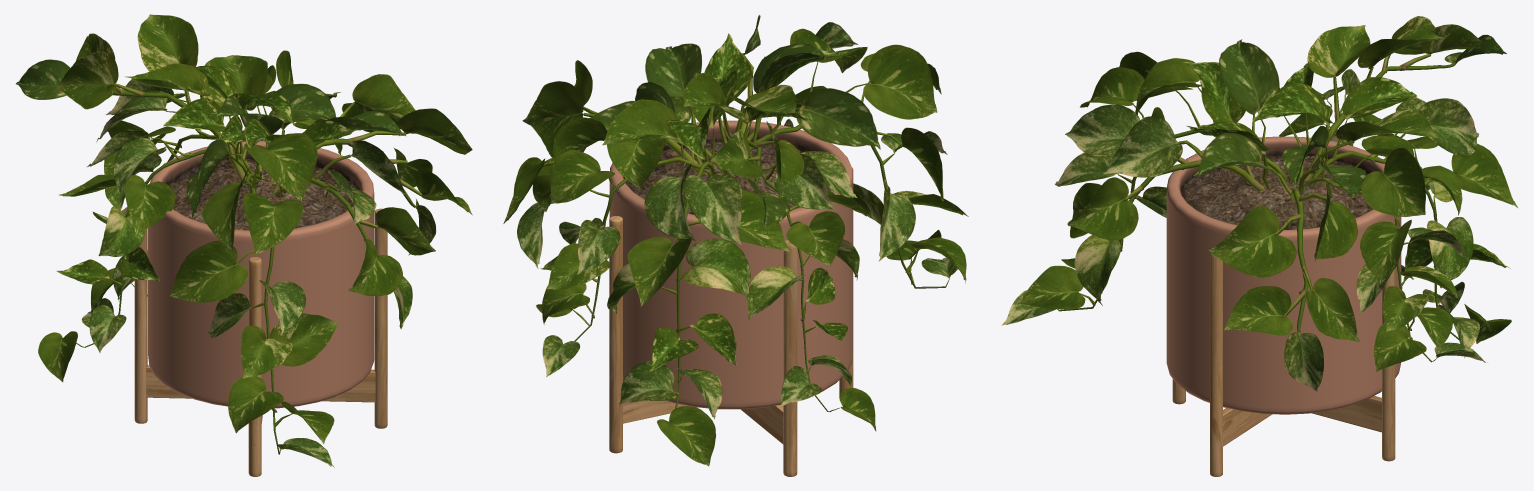
File: free_pothos_potted_plant_-_money_plant.glb
3 renders of one model, left to right at view 1: azimuth 30°, elevation 25°; view 2: azimuth 150°, elevation 25°; view 3: azimuth 270°, elevation 25°, orthographic. The views are drawn at different scales.
Parts seen in each view (by area): view 1: POTHOS_POTHOS_Mat_0, POT_WOOD_LEGS_WOODEN_LEGS_POT_0; view 2: POTHOS_POTHOS_Mat_0, POT_WOOD_LEGS_WOODEN_LEGS_POT_0; view 3: POTHOS_POTHOS_Mat_0, POT_WOOD_LEGS_WOODEN_LEGS_POT_0.
Part boxes in pixels (bbox=[...]): POTHOS_POTHOS_Mat_0: bbox=[16, 14, 472, 467]; POT_WOOD_LEGS_WOODEN_LEGS_POT_0: bbox=[134, 141, 387, 476]; POTHOS_POTHOS_Mat_0: bbox=[503, 15, 968, 466]; POT_WOOD_LEGS_WOODEN_LEGS_POT_0: bbox=[609, 120, 853, 476]; POTHOS_POTHOS_Mat_0: bbox=[1001, 16, 1517, 391]; POT_WOOD_LEGS_WOODEN_LEGS_POT_0: bbox=[1166, 136, 1401, 476].
Size of the model in its own units: 0.8265 by 0.7916 by 0.9741.
2 materials, 2 textured.
